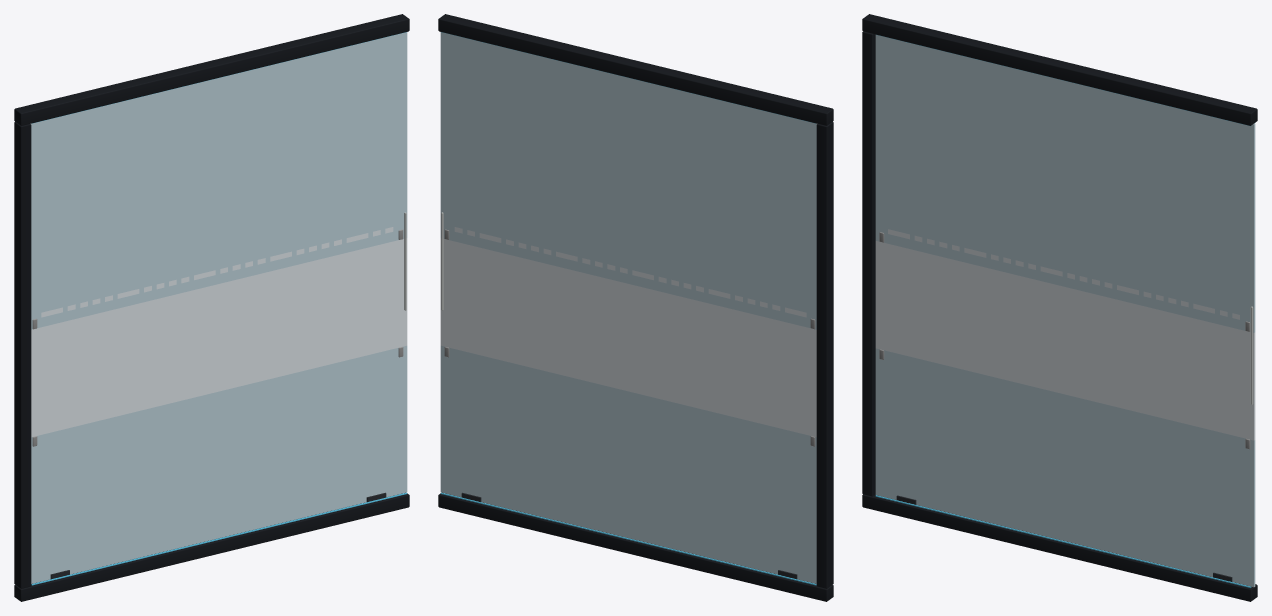
File: Glass_Partition_2_5m.fbx
The picture shows the model from 3 angles, left to right: view 1: azimuth 30°, elevation 25°; view 2: azimuth 150°, elevation 25°; view 3: azimuth 330°, elevation 25°; orthographic projection.
Visible parts, largest first — view 1: Glass_Partition_2_5m_LOD0; view 2: Glass_Partition_2_5m_LOD0; view 3: Glass_Partition_2_5m_LOD0.
Boxes of the visible parts, x1=… form: Glass_Partition_2_5m_LOD0: x1=14, y1=14, x2=409, y2=601; Glass_Partition_2_5m_LOD0: x1=438, y1=14, x2=833, y2=601; Glass_Partition_2_5m_LOD0: x1=862, y1=14, x2=1257, y2=601.
Size of what is drawn, in the model's own units: 2.5 by 3 by 0.08.
